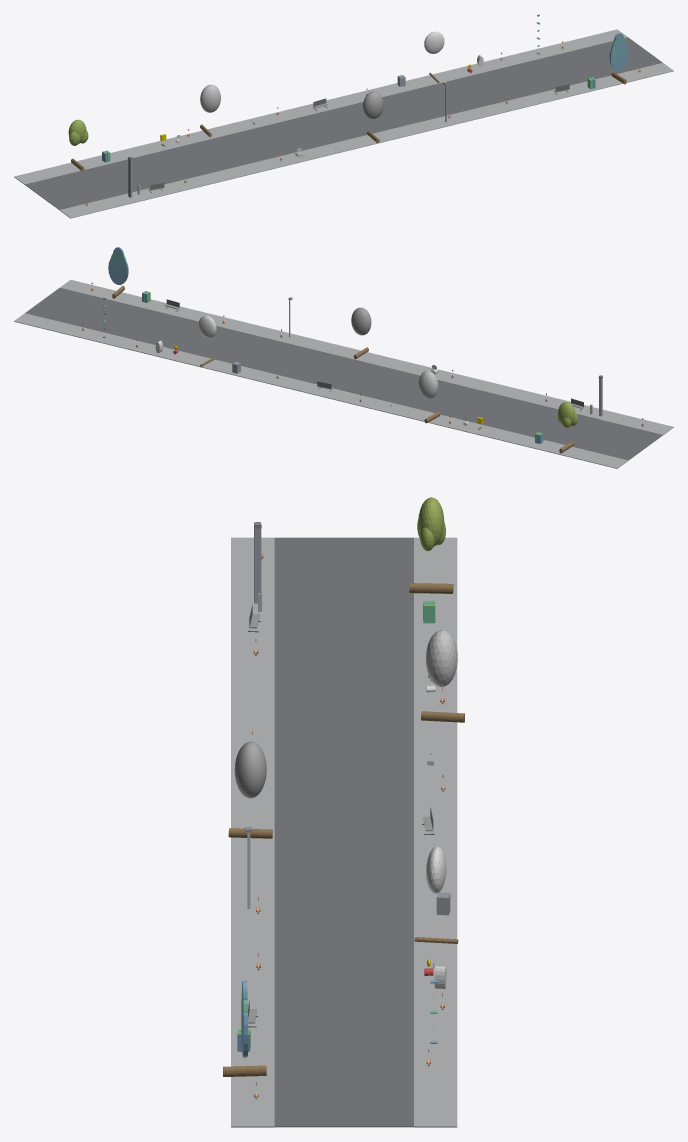
3 renders of one model, top to bottom at view 1: azimuth 30°, elevation 25°; view 2: azimuth 150°, elevation 25°; view 3: azimuth 270°, elevation 25°, orthographic. The views are drawn at different scales.
Visible parts, largest first — view 1: road_slab, sidewalk_left, sidewalk_right, inst_0016, inst_0013, inst_0014, inst_0012, inst_0015; view 2: road_slab, sidewalk_right, sidewalk_left, inst_0016, inst_0013, inst_0014, inst_0012, inst_0015; view 3: road_slab, sidewalk_left, sidewalk_right, inst_0013, inst_0014, inst_0012, inst_0016, inst_0015.
Boxes of the visible parts, bbox=[...] form: road_slab: bbox=[25, 37, 662, 209]; sidewalk_left: bbox=[59, 63, 673, 218]; sidewalk_right: bbox=[14, 29, 627, 184]; inst_0016: bbox=[609, 33, 628, 84]; inst_0013: bbox=[200, 84, 220, 137]; inst_0014: bbox=[363, 91, 383, 143]; inst_0012: bbox=[68, 119, 88, 171]; inst_0015: bbox=[424, 31, 444, 83]; road_slab: bbox=[25, 288, 662, 460]; sidewalk_right: bbox=[14, 313, 628, 468]; sidewalk_left: bbox=[60, 279, 673, 435]; inst_0016: bbox=[108, 247, 128, 298]; inst_0013: bbox=[418, 370, 440, 423]; inst_0014: bbox=[351, 307, 371, 359]; inst_0012: bbox=[558, 402, 577, 453]; inst_0015: bbox=[198, 315, 216, 366]; road_slab: bbox=[274, 537, 413, 1127]; sidewalk_left: bbox=[231, 537, 274, 1127]; sidewalk_right: bbox=[414, 537, 457, 1127]; inst_0013: bbox=[421, 629, 464, 722]; inst_0014: bbox=[228, 741, 272, 838]; inst_0012: bbox=[409, 497, 453, 593]; inst_0016: bbox=[223, 980, 266, 1076]; inst_0015: bbox=[414, 846, 458, 943].
Bounding box in the file's own units: 80 × 6.08 × 13.91.
